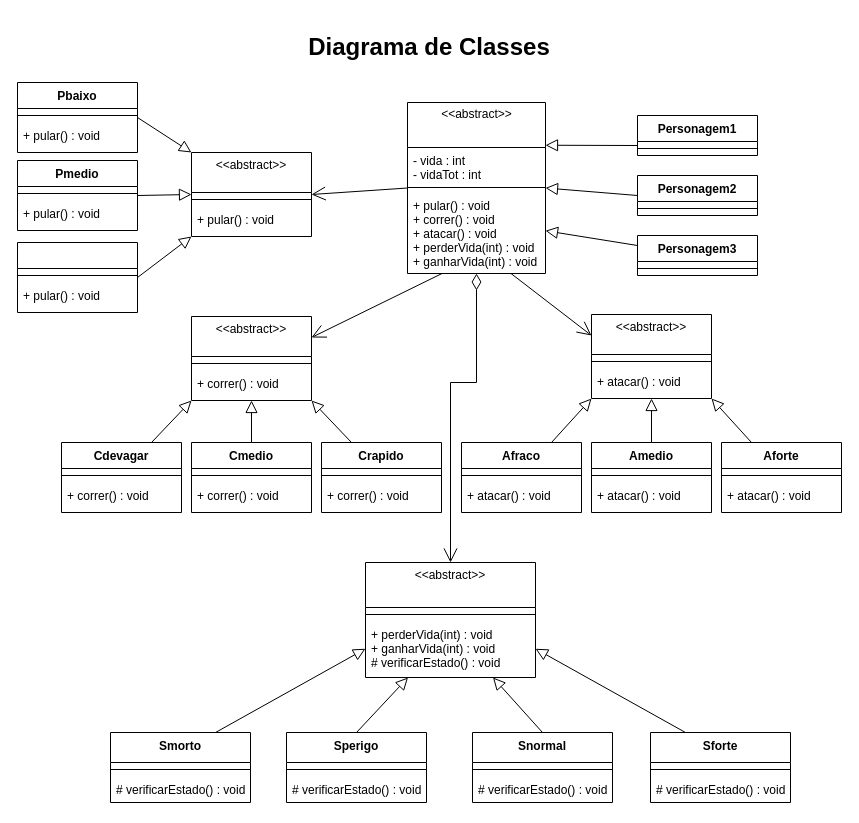
Image size: 859x823. Some labels were removed from this diagram. The shapes that lost their labels are listed below. From the top down, each one's box as (x1, y1, x2, y2) in pixels, then its label:
(190, 152, 312, 236): Pulo
(406, 102, 546, 274): Personagem
(16, 242, 138, 312): Palto
(190, 316, 312, 400): Corrida
(590, 314, 712, 398): Ataque
(364, 562, 536, 678): Saude
